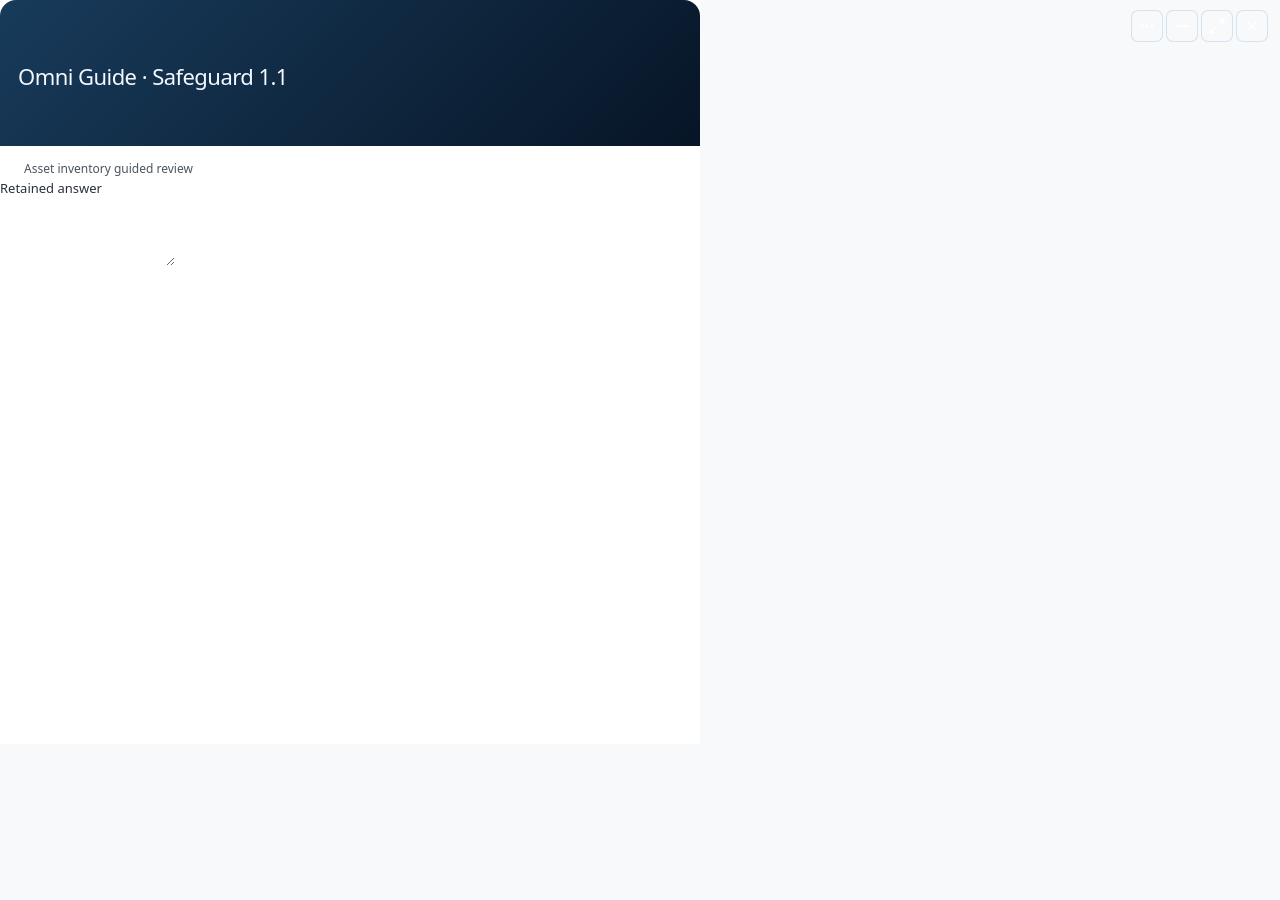
Scenario: nonblocking guide has meaningful labels, preserves mounted answers and exposes native window controls
Later steps or results of the test are not shown.
Click the button named "Expand Omni Guide".
click(1217, 26)  # box [1201,10,1233,42]
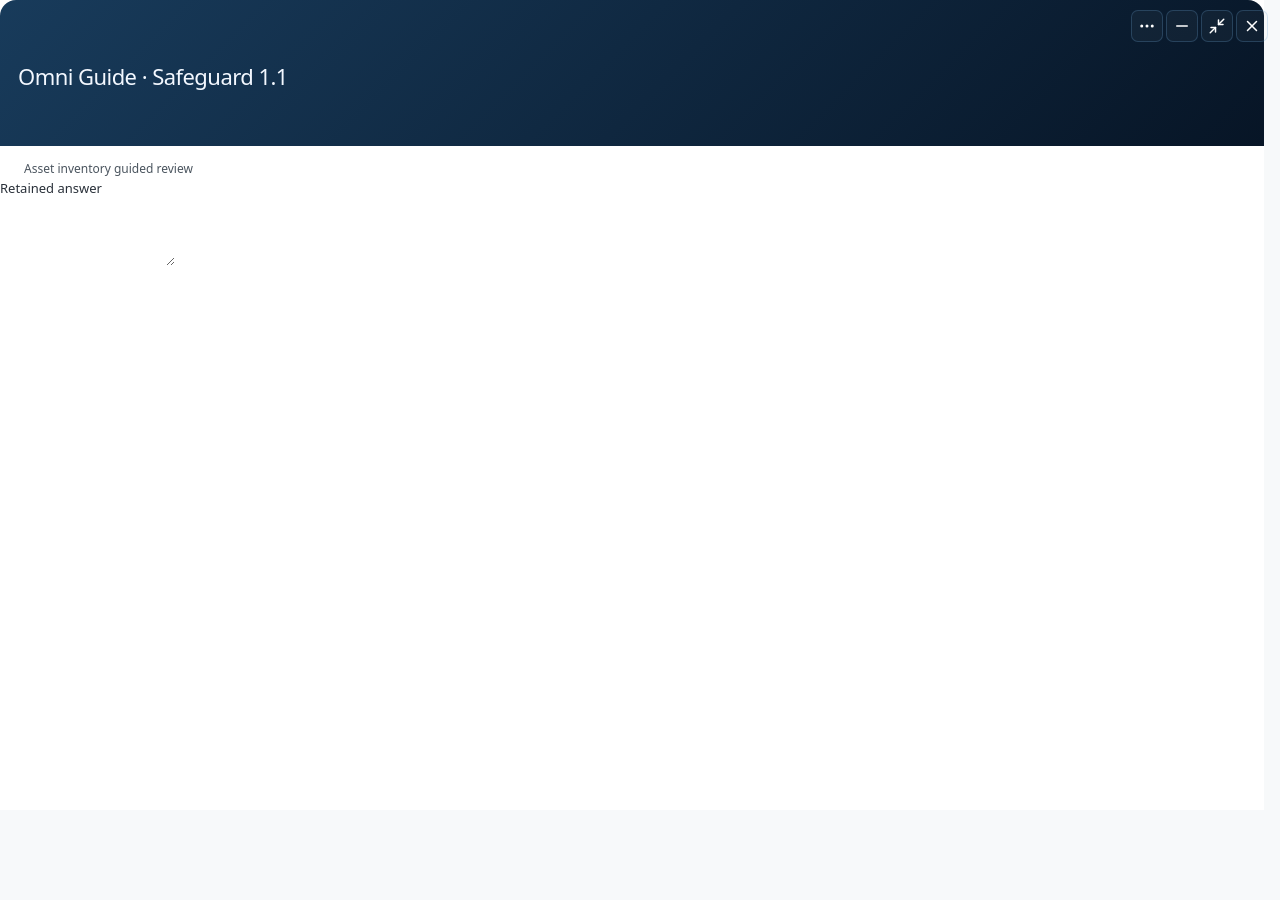
Expected: the text box holds "Retained answer", [0,178,175,266]
Click the button named "Expand Omni Guide".
click(1217, 26)  # box [1201,10,1233,42]
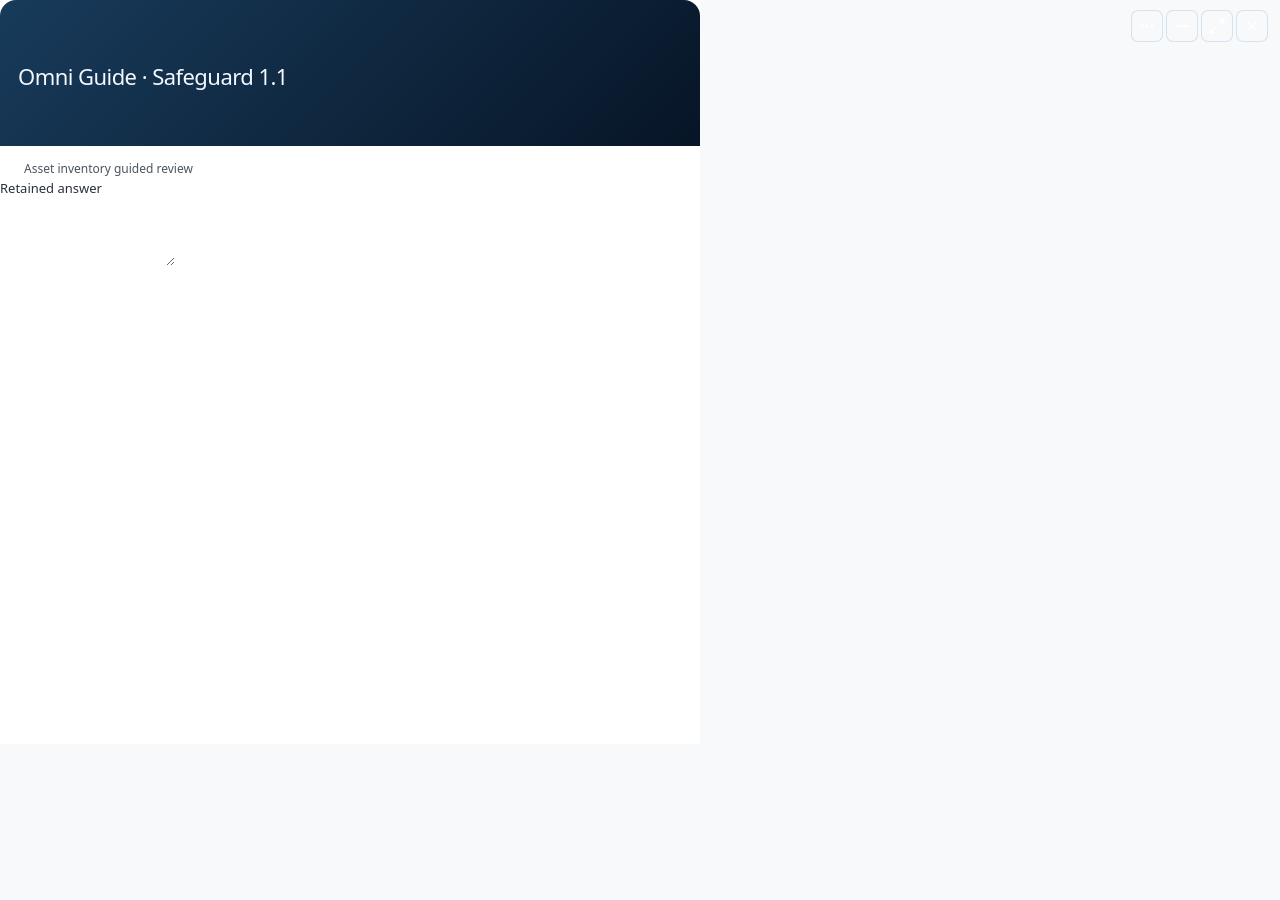
Expected: the number of elements with class "omni-resize" is 8
